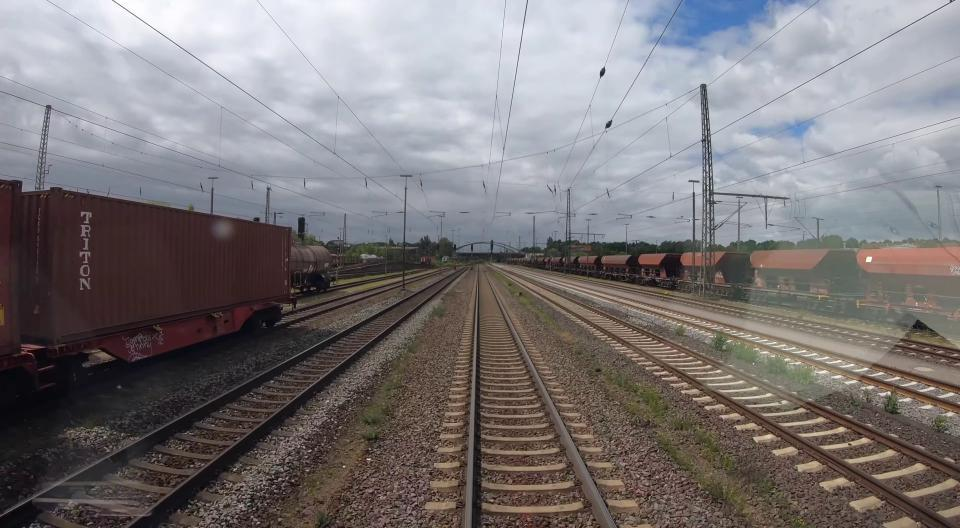Plant: (653, 431, 748, 515), (606, 371, 670, 418), (711, 333, 759, 363), (494, 273, 532, 305), (694, 428, 722, 454), (788, 363, 816, 385), (765, 354, 788, 375), (882, 390, 900, 414), (714, 454, 737, 472), (932, 415, 950, 433), (362, 409, 382, 425), (362, 428, 382, 441), (406, 339, 422, 354), (316, 512, 330, 528), (673, 419, 691, 431), (432, 305, 446, 317), (673, 325, 686, 336), (863, 390, 873, 402)
